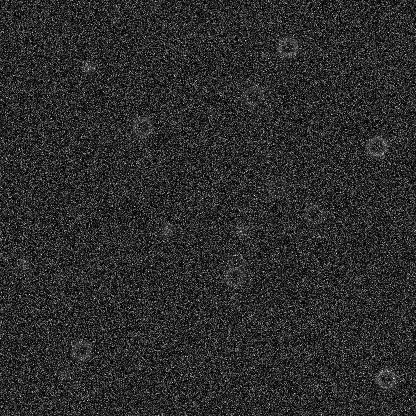Ring: (374, 366, 398, 390), (69, 338, 93, 362), (222, 264, 246, 288), (224, 251, 248, 275), (301, 201, 325, 225), (275, 35, 299, 59), (364, 134, 388, 158), (241, 84, 265, 108), (265, 176, 289, 200), (129, 114, 153, 138)
Spot: (56, 365, 72, 381), (159, 221, 175, 237), (80, 59, 96, 75), (242, 98, 258, 114), (16, 257, 32, 273), (233, 222, 249, 238)
